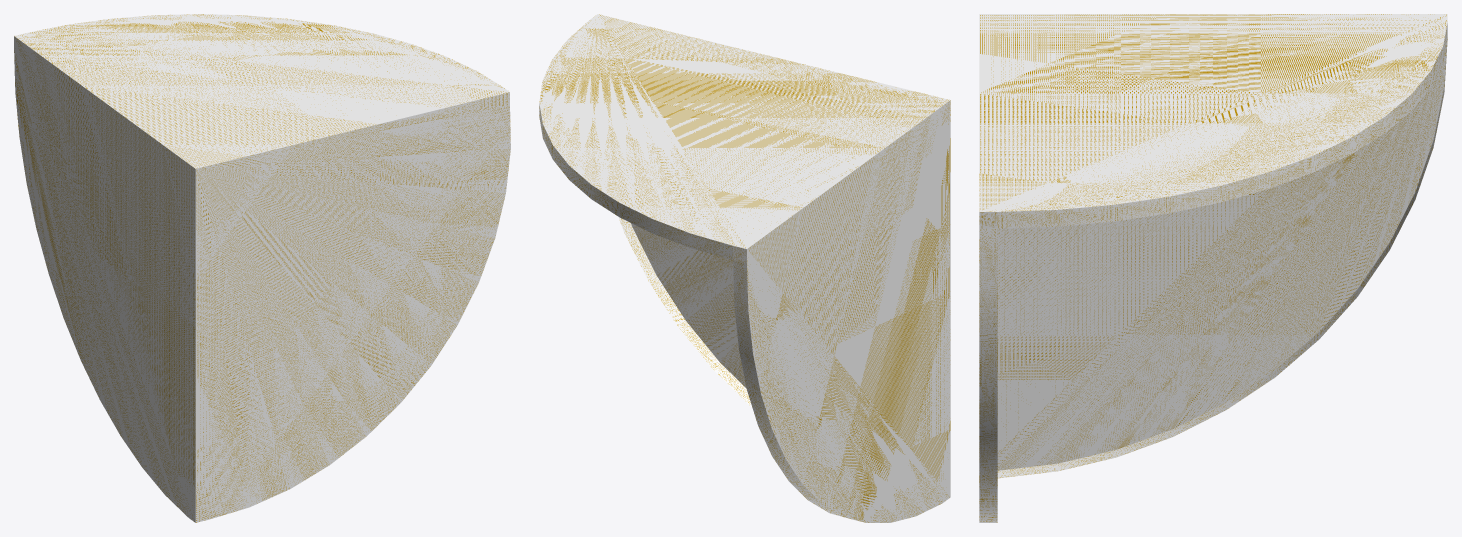
The model's file is original-34.obj.
The picture shows the model from 3 angles, left to right: view 1: azimuth 30°, elevation 25°; view 2: azimuth 150°, elevation 25°; view 3: azimuth 270°, elevation 25°; orthographic projection. The views are drawn at different scales.
Parts seen in each view (by area): view 1: mesh33/mesh33-geometry/material_9/component_3#mesh33-geometry; view 2: mesh33/mesh33-geometry/material_9/component_3#mesh33-geometry; view 3: mesh33/mesh33-geometry/material_9/component_3#mesh33-geometry.
Part boxes in pixels (x1=…): mesh33/mesh33-geometry/material_9/component_3#mesh33-geometry: x1=14, y1=14, x2=510, y2=522; mesh33/mesh33-geometry/material_9/component_3#mesh33-geometry: x1=539, y1=14, x2=950, y2=522; mesh33/mesh33-geometry/material_9/component_3#mesh33-geometry: x1=979, y1=14, x2=1447, y2=522.
Size of the model in its own units: 0.123 by 0.132 by 0.1227.
